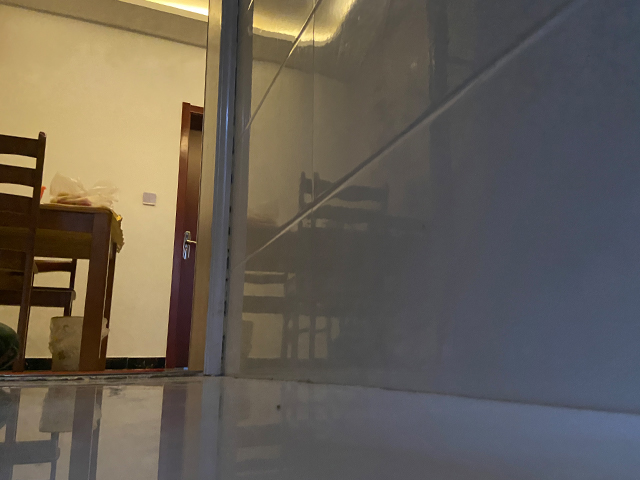carpet: (1, 366, 166, 377)
stool: (1, 130, 48, 375)
table: (1, 200, 126, 373)
trashcan: (48, 315, 86, 374)
